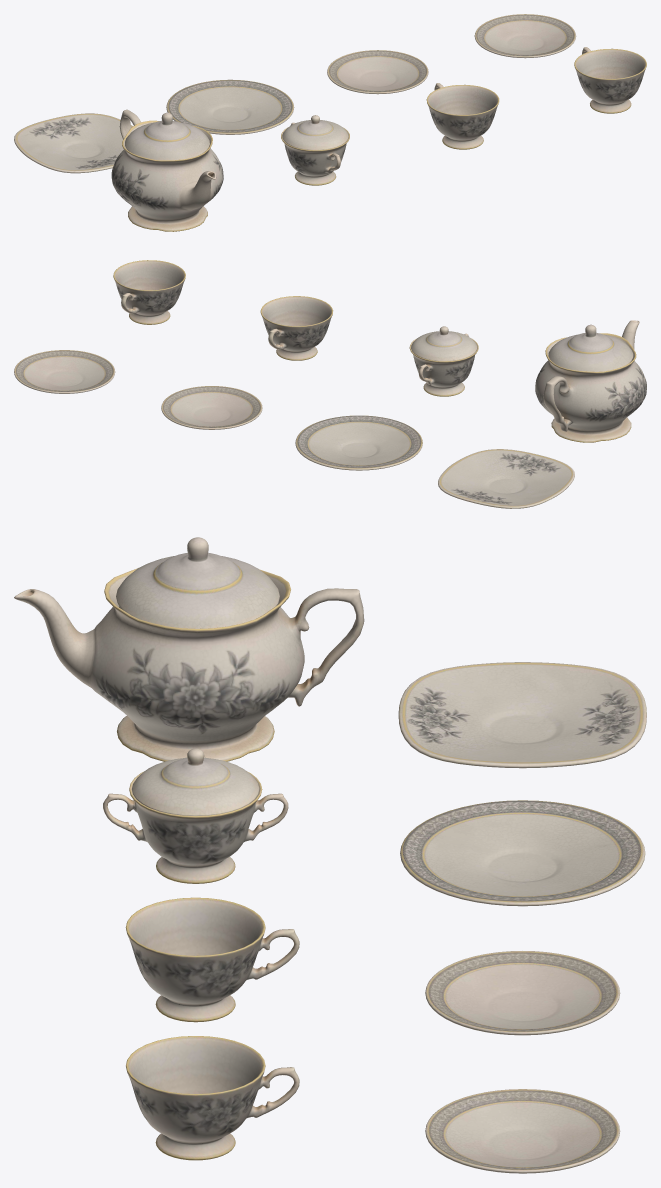
Rendered from tea_set_01_4k-v2.glb.
3 renders of one model, top to bottom at view 1: azimuth 30°, elevation 25°; view 2: azimuth 150°, elevation 25°; view 3: azimuth 270°, elevation 25°, orthographic. The views are drawn at different scales.
Parts seen in each view (by area): view 1: tea_set_01_teapot_01, tea_set_01_plate_large_circular_03, tea_set_01_plate_large_square_01, tea_set_01_cup_small_01, tea_set_01_cup_small_02, tea_set_01_saucer_circular_03, tea_set_01_saucer_circular_04, tea_set_01_teapot_01_lid, tea_set_01_sugar_cup_01, tea_set_01_sugar_cup_01_lid; view 2: tea_set_01_teapot_01, tea_set_01_plate_large_square_01, tea_set_01_plate_large_circular_03, tea_set_01_cup_small_01, tea_set_01_cup_small_02, tea_set_01_saucer_circular_04, tea_set_01_saucer_circular_03, tea_set_01_teapot_01_lid, tea_set_01_sugar_cup_01, tea_set_01_sugar_cup_01_lid; view 3: tea_set_01_teapot_01, tea_set_01_plate_large_square_01, tea_set_01_plate_large_circular_03, tea_set_01_cup_small_01, tea_set_01_cup_small_02, tea_set_01_saucer_circular_03, tea_set_01_saucer_circular_04, tea_set_01_teapot_01_lid, tea_set_01_sugar_cup_01, tea_set_01_sugar_cup_01_lid.
Boxes of the visible parts, x1,y1,x2,y2 form: tea_set_01_teapot_01: (111,109,223,231); tea_set_01_plate_large_circular_03: (166,79,294,134); tea_set_01_plate_large_square_01: (14,113,133,173); tea_set_01_cup_small_01: (426,83,499,149); tea_set_01_cup_small_02: (574,47,646,113); tea_set_01_saucer_circular_03: (474,14,576,58); tea_set_01_saucer_circular_04: (327,50,428,94); tea_set_01_teapot_01_lid: (125,112,209,160); tea_set_01_sugar_cup_01: (281,122,349,185); tea_set_01_sugar_cup_01_lid: (282,115,348,150); tea_set_01_teapot_01: (535,320,646,442); tea_set_01_plate_large_square_01: (438,449,574,508); tea_set_01_plate_large_circular_03: (295,415,422,470); tea_set_01_cup_small_01: (260,296,333,360); tea_set_01_cup_small_02: (113,260,185,324); tea_set_01_saucer_circular_04: (161,386,262,429); tea_set_01_saucer_circular_03: (14,350,115,393); tea_set_01_teapot_01_lid: (548,324,633,371); tea_set_01_sugar_cup_01: (409,333,478,396); tea_set_01_sugar_cup_01_lid: (411,326,477,361); tea_set_01_teapot_01: (14,568,364,761); tea_set_01_plate_large_square_01: (398,662,646,768); tea_set_01_plate_large_circular_03: (400,800,645,906); tea_set_01_cup_small_01: (125,897,299,1022); tea_set_01_cup_small_02: (126,1036,299,1160); tea_set_01_saucer_circular_03: (425,1089,620,1173); tea_set_01_saucer_circular_04: (425,951,620,1035); tea_set_01_teapot_01_lid: (116,537,279,628); tea_set_01_sugar_cup_01: (103,771,288,883); tea_set_01_sugar_cup_01_lid: (131,748,259,815).
Bounding box in the file's own units: 0.9185 × 0.165 × 0.4839.
Materials: 1 (1 with a texture image).
